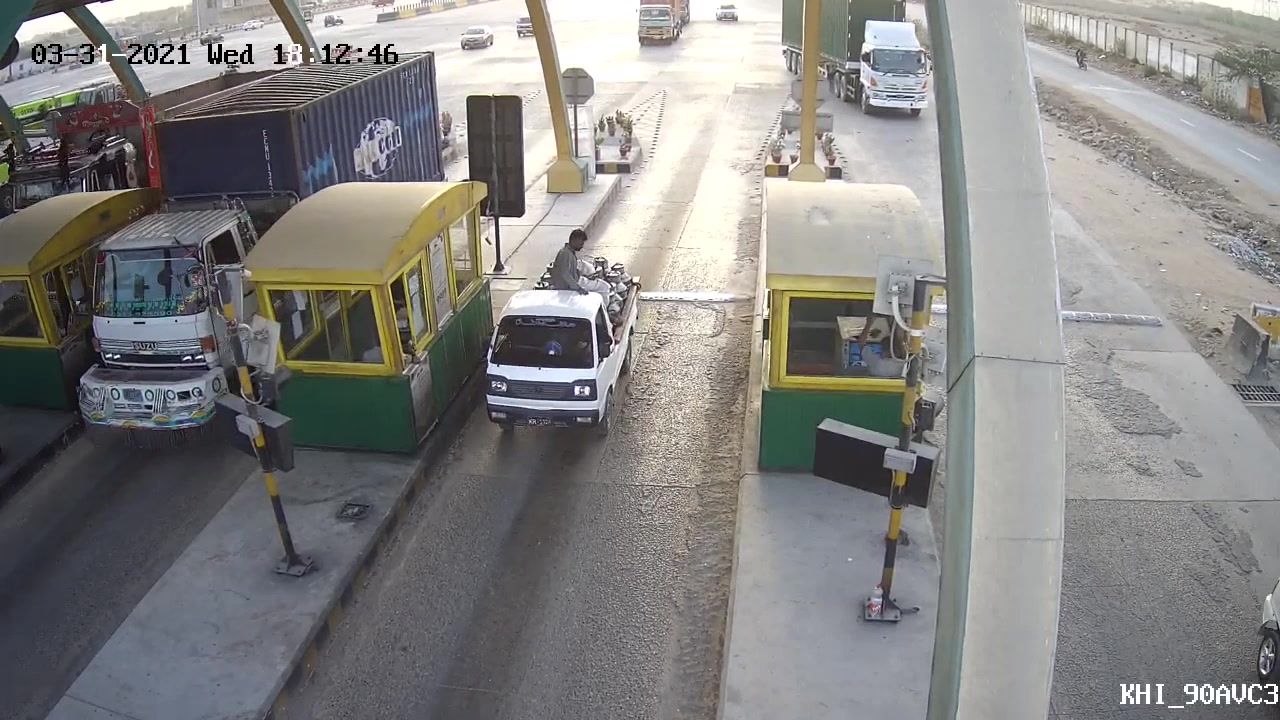F1: (480, 251, 641, 436)
